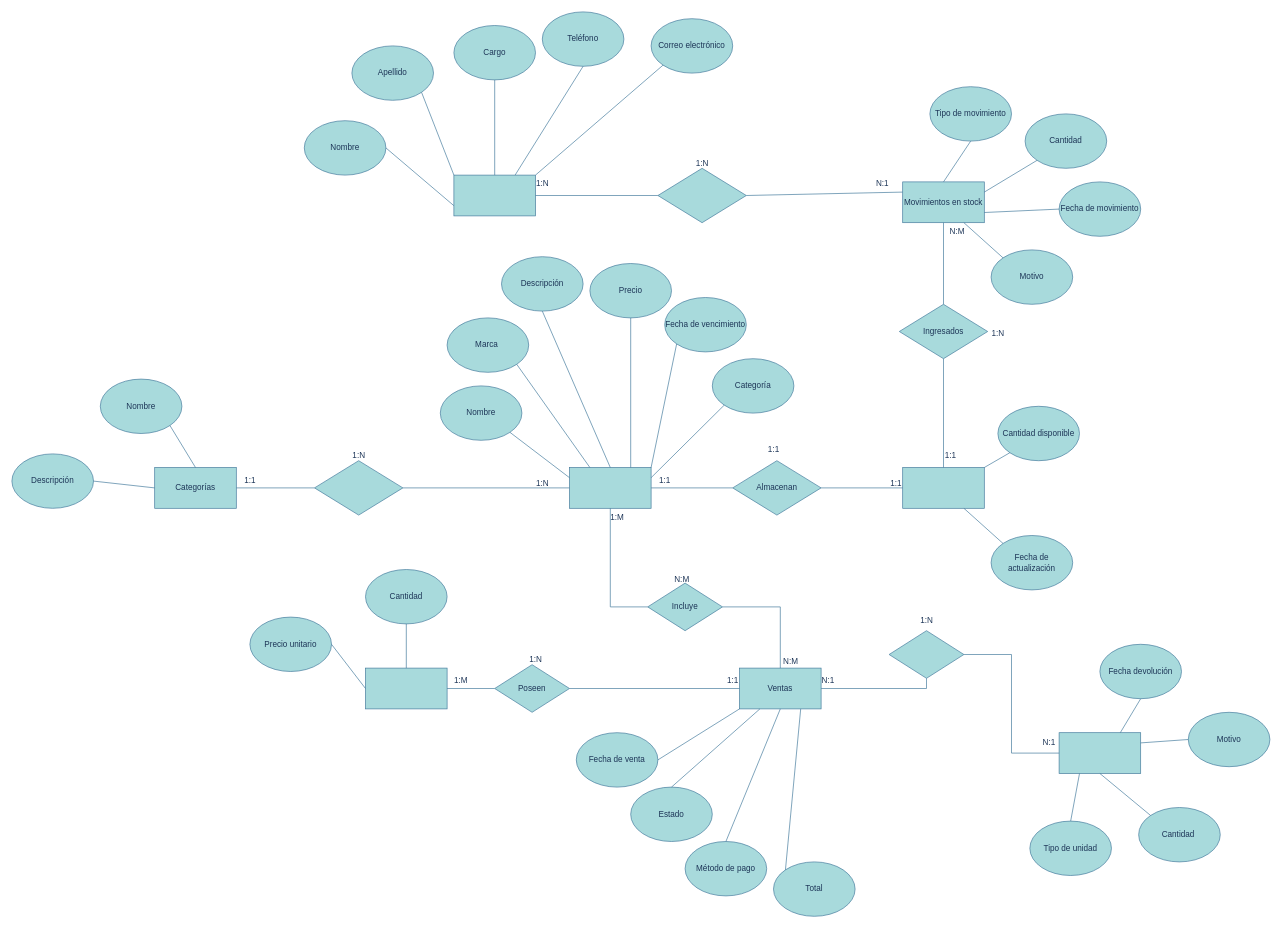
Image size: 1282x928. Some labels were removed from this diagram. The shapes that lost their labels are listed below. From the top down, each one's box as (x1, y1, x2, y2) in pixels, then its label:
(453, 174, 536, 216): Empleados
(657, 168, 746, 223): Resgistran
(314, 460, 403, 515): Clasifican
(569, 467, 651, 508): Productos
(902, 467, 984, 508): Inventario
(888, 630, 964, 678): Asociada
(365, 667, 447, 709): Detalle venta
(1058, 732, 1141, 774): Devoluciones
